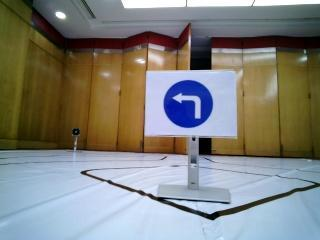left: (157, 70, 226, 133)
